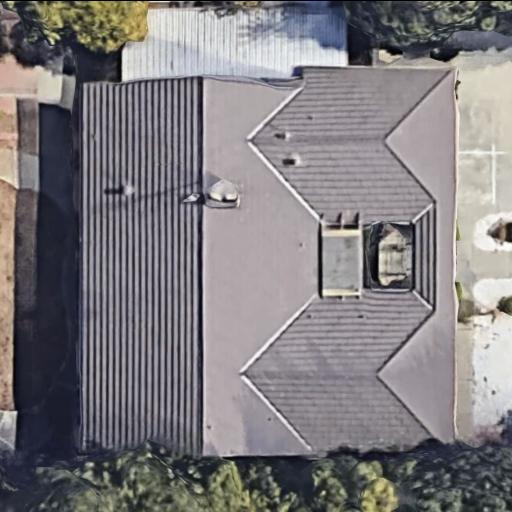Slope-Roof: (81, 64, 457, 465)
